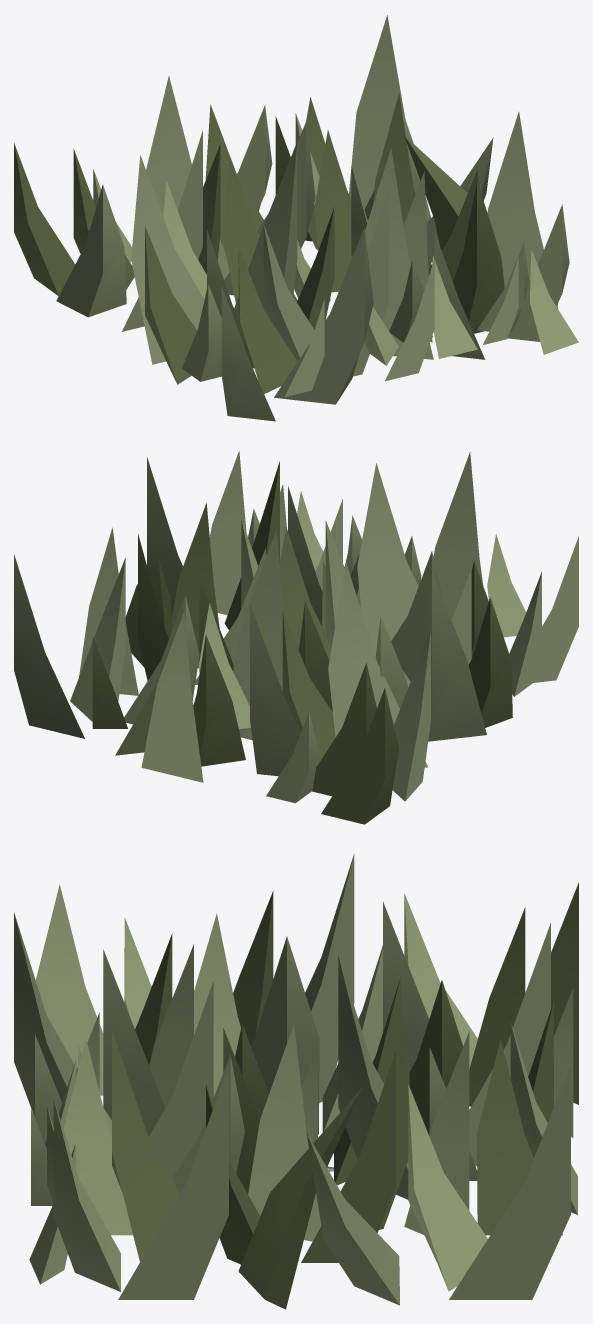
File: low_poly_grass_clump.glb
3 views of the same model, one above another, from view 1: azimuth 30°, elevation 25°; view 2: azimuth 150°, elevation 25°; view 3: azimuth 270°, elevation 25° (orthographic). The views are drawn at different scales.
Visible parts, largest first — view 1: grass; view 2: grass; view 3: grass.
Part boxes in pixels (x1,y1,x2,y2): grass: (14, 15, 578, 421); grass: (14, 451, 578, 824); grass: (14, 854, 578, 1309).
Bounding box in the file's own units: 0.7594 × 0.3986 × 0.7432.
